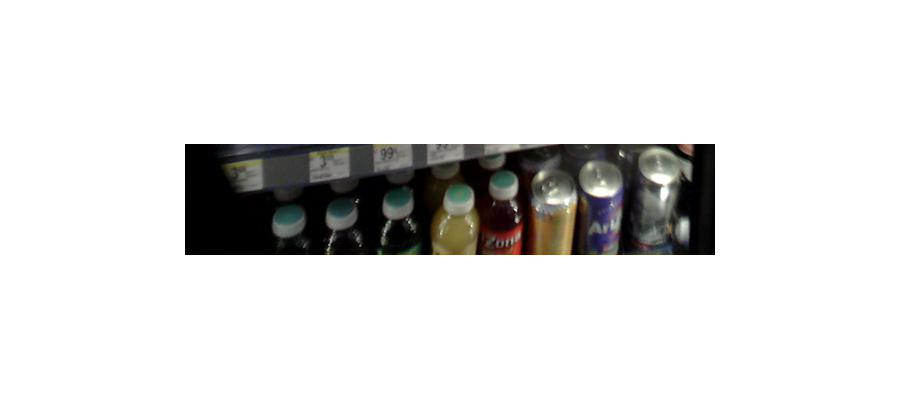bottle: (631, 148, 682, 254), (577, 154, 623, 259), (527, 163, 580, 254), (477, 169, 524, 259), (430, 180, 476, 257)
